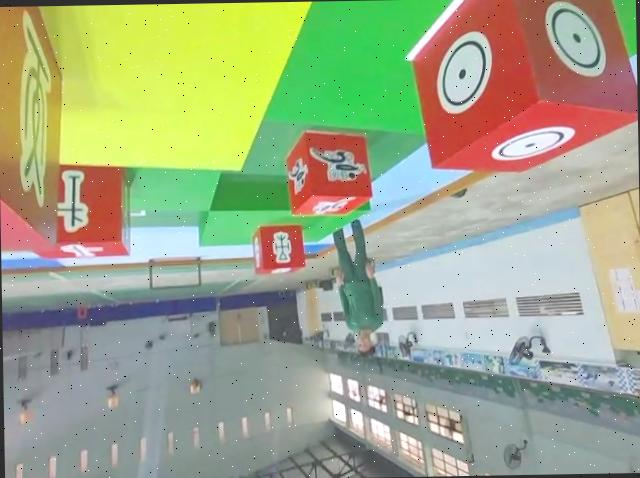R1: (284, 128, 373, 217)
R2 Fake: (0, 4, 64, 252)
R2 Real: (409, 0, 639, 175), (31, 162, 133, 262), (251, 222, 306, 275)
